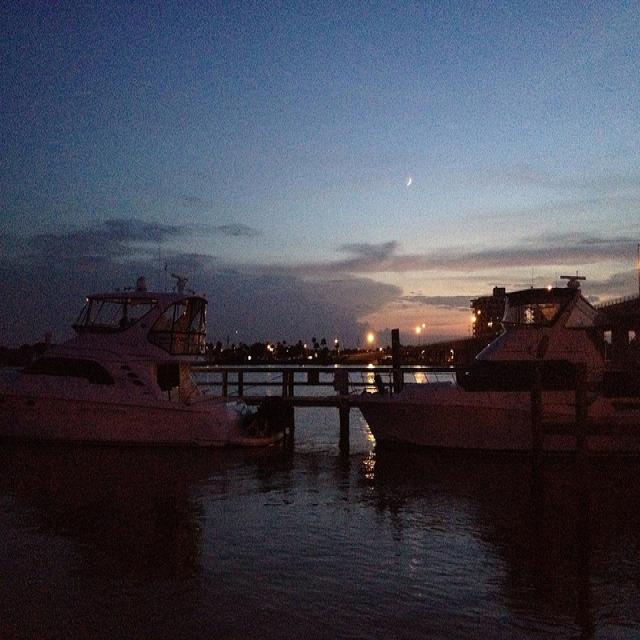Boat: (334, 262, 640, 478), (7, 291, 282, 474)
